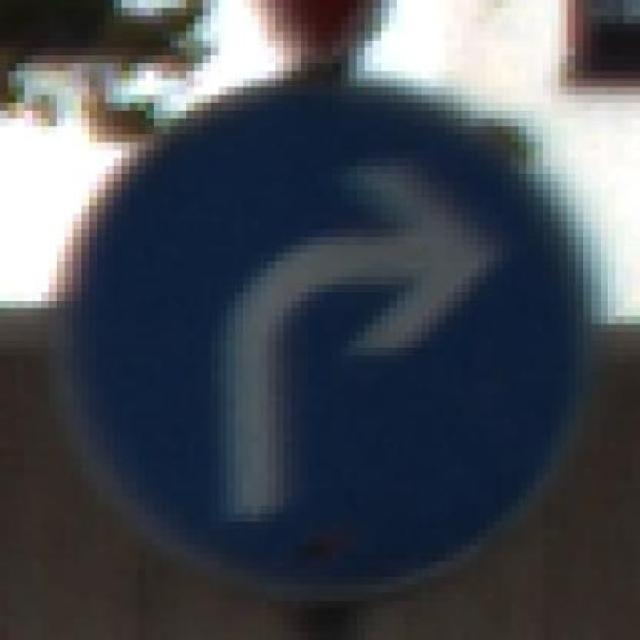Turn right ahead: (40, 48, 583, 618)
